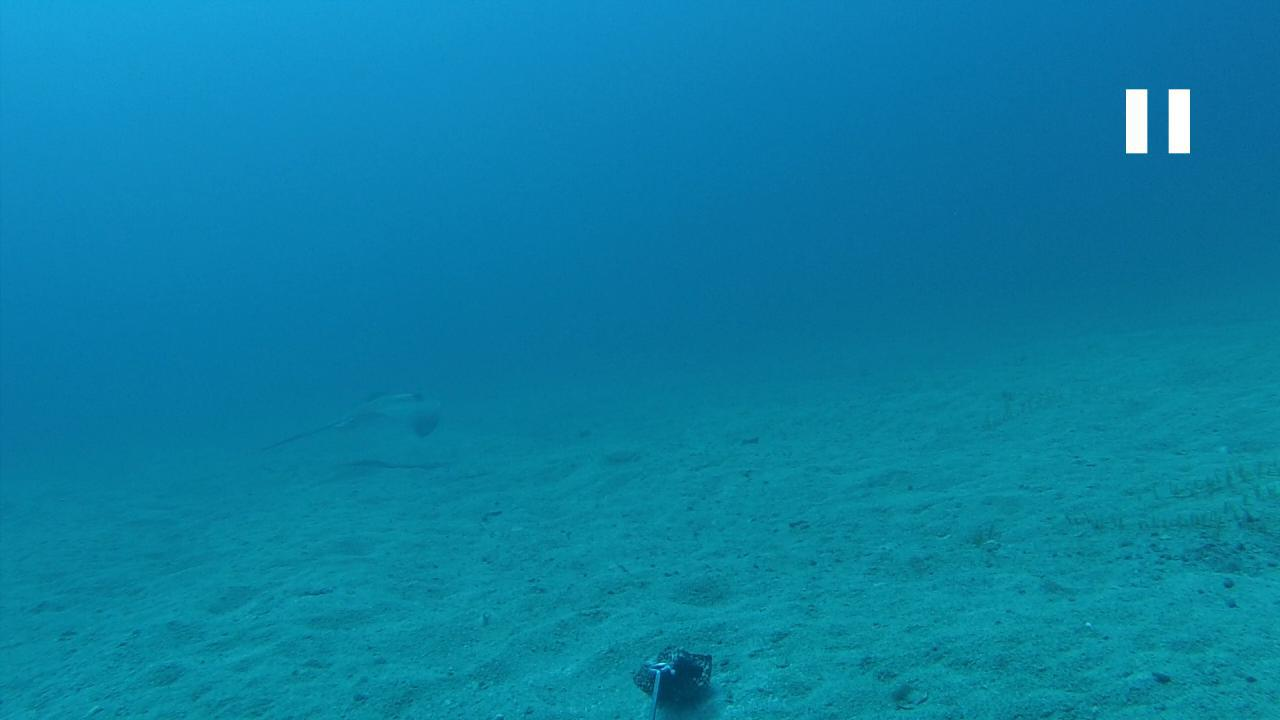dasyatis: (258, 386, 444, 451)
